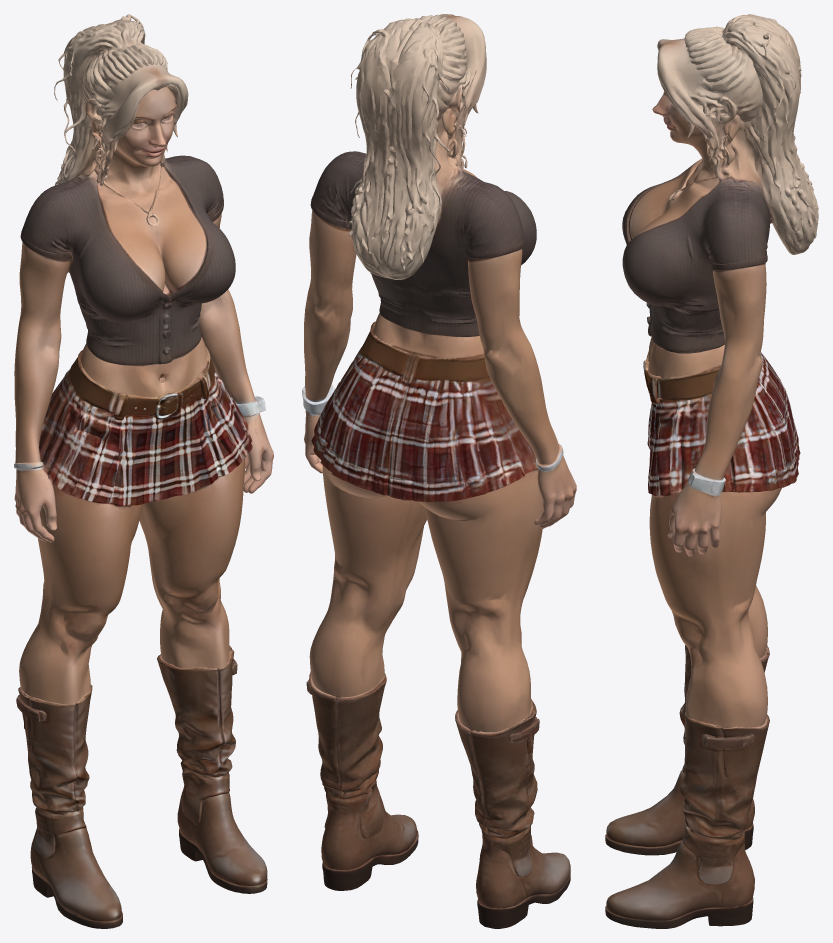
File: needle-blonde-plaid-v270.glb
3 views of the same model, side by side, from view 1: azimuth 30°, elevation 25°; view 2: azimuth 150°, elevation 25°; view 3: azimuth 270°, elevation 25° (orthographic). The views are drawn at different scales.
Visible parts, largest first — view 1: model; view 2: model; view 3: model.
Boxes of the visible parts, x1,y1,x2,y2 form: model: (14,14,273,928); model: (302,14,576,928); model: (605,14,818,928).
Bounding box in the file's own units: 0.5928 × 1.9 × 0.4263.
1 material, 1 textured.
